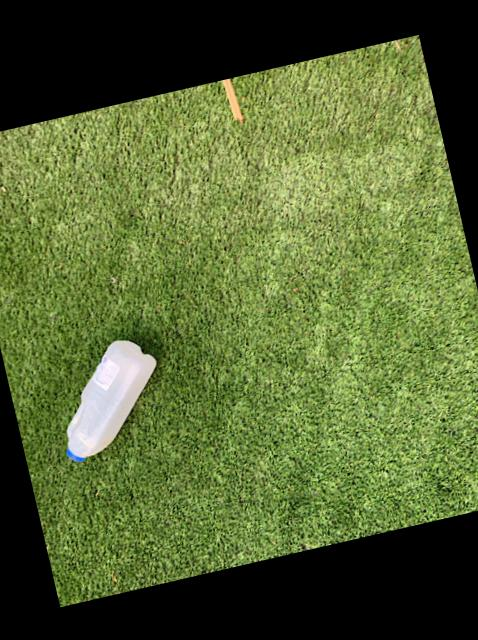plastic: (65, 341, 154, 461)
